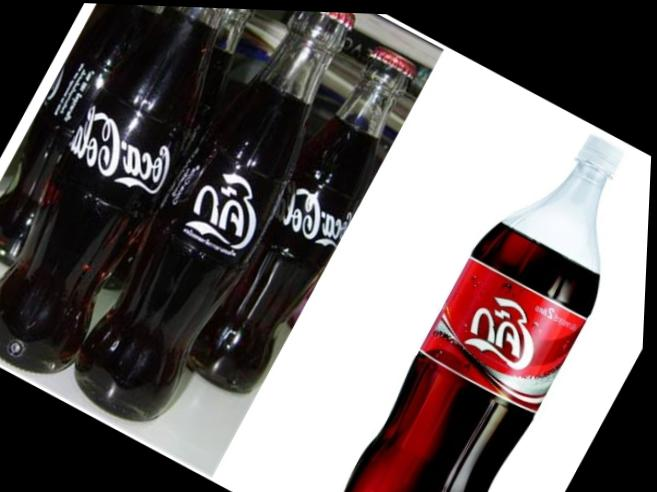glass: (267, 83, 648, 491), (28, 6, 378, 419), (182, 13, 428, 391), (0, 2, 95, 176)
